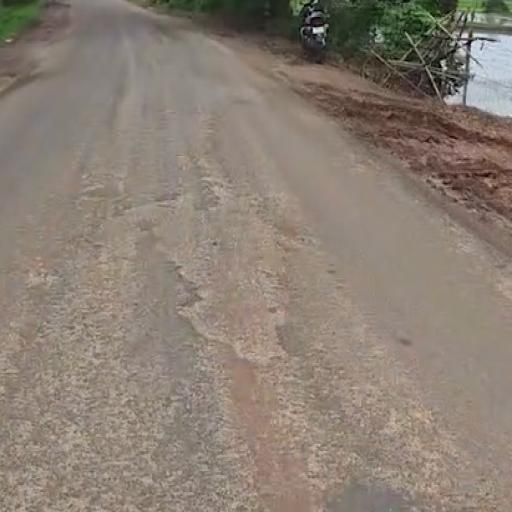ravelling: (116, 100, 338, 427)
